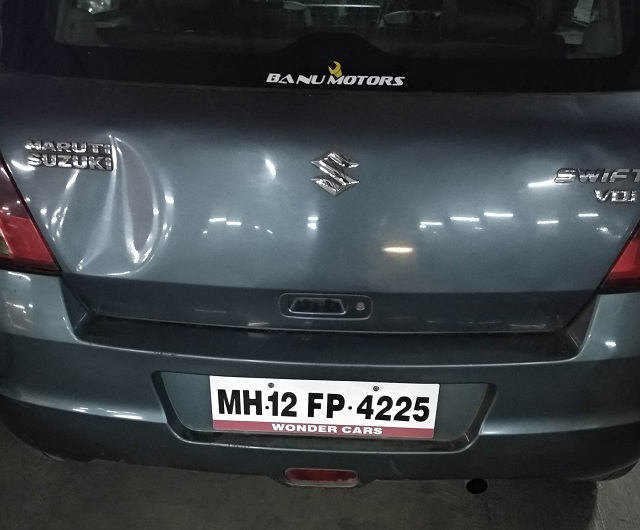licenseplate: (207, 372, 441, 445)
